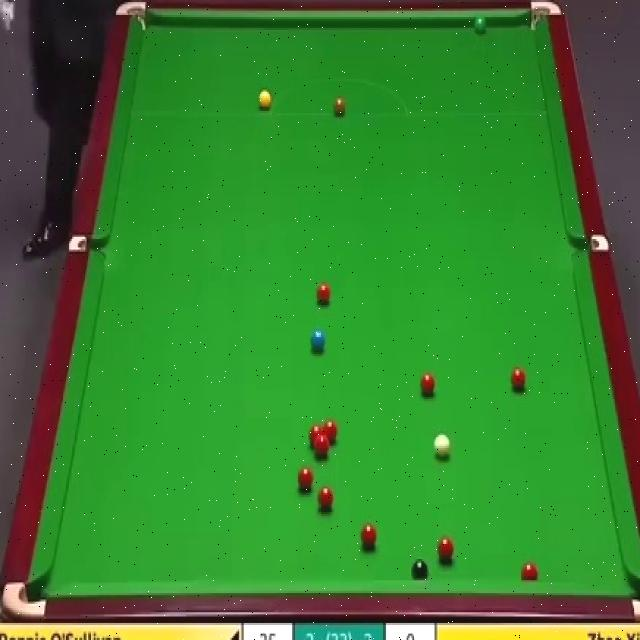black-ball: (412, 558, 428, 581)
blue-ball: (309, 328, 327, 351)
brown-ball: (333, 94, 345, 115)
green-ball: (474, 12, 488, 32)
red-ball: (436, 537, 456, 566), (317, 482, 336, 512), (419, 369, 437, 398), (361, 522, 378, 552), (298, 462, 313, 491), (308, 424, 324, 451), (315, 282, 331, 309), (510, 367, 525, 393), (323, 420, 338, 445), (520, 561, 539, 579), (314, 438, 330, 459)
white-ball: (432, 436, 450, 461)
yellow-ball: (258, 92, 270, 109)
